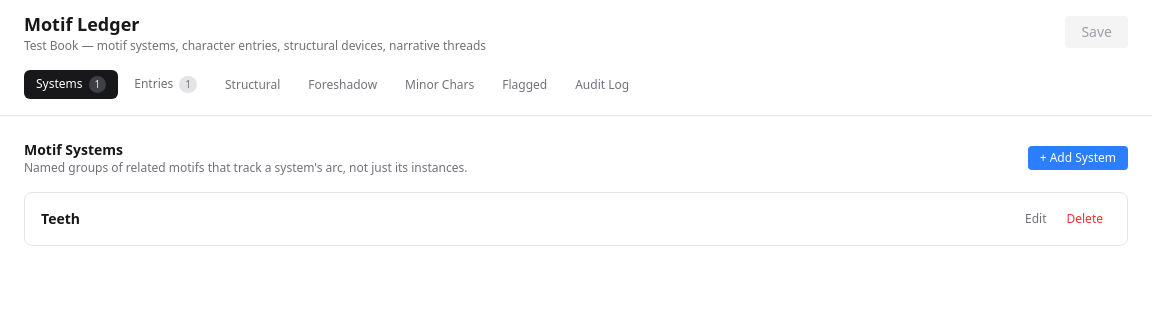
MotifLedgerView › switches tabs
Expected: the heading "Teeth" is shown, [41,209,80,228]
Step 1. Click the button "Entries 1" → (166, 85), box [122,70,209,99]
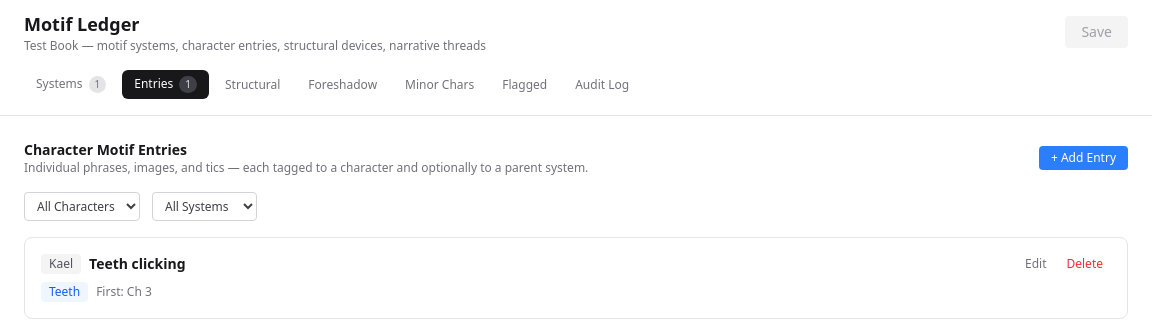
Expected: the text "Teeth clicking" is shown, [89,254,186,274]
Step 2. Click the button "Audit Log" → (602, 85), box [563,70,641,99]
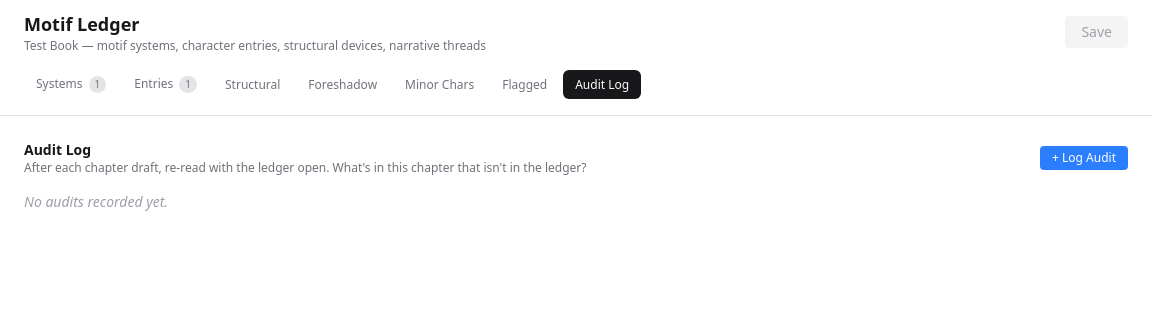
Expected: the text "No audits recorded yet." is shown, [24,192,168,211]
